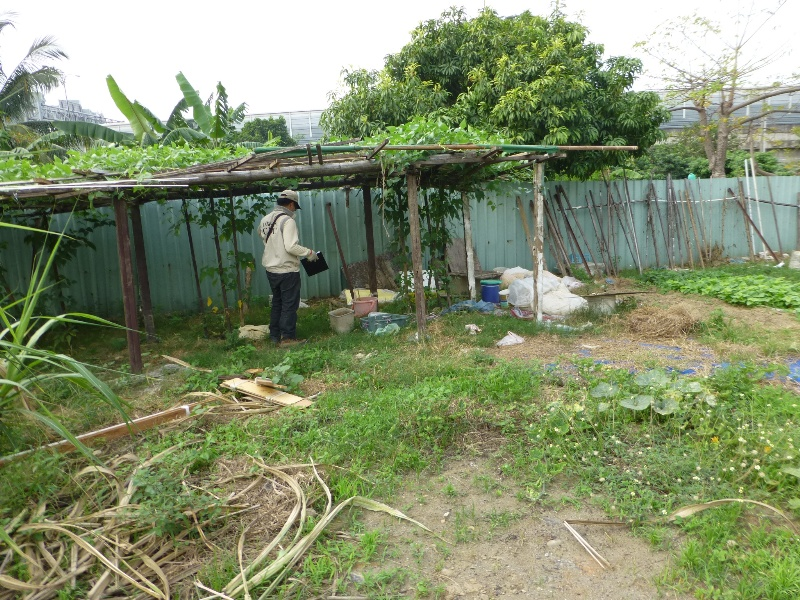bucket: (326, 306, 354, 337), (353, 296, 378, 319), (481, 279, 502, 304)
